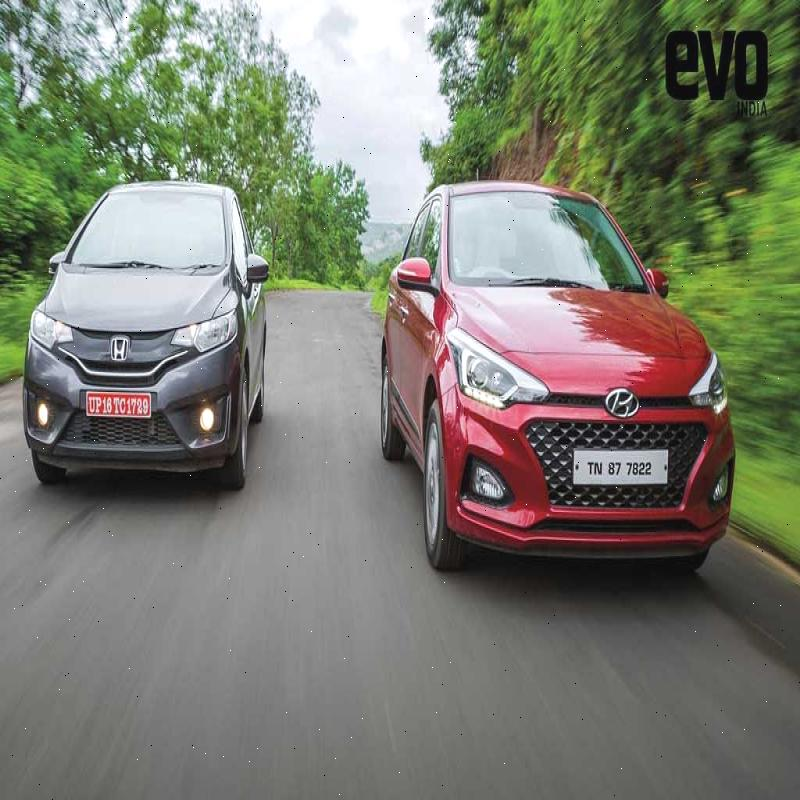car: (374, 153, 753, 568), (50, 143, 248, 478)
